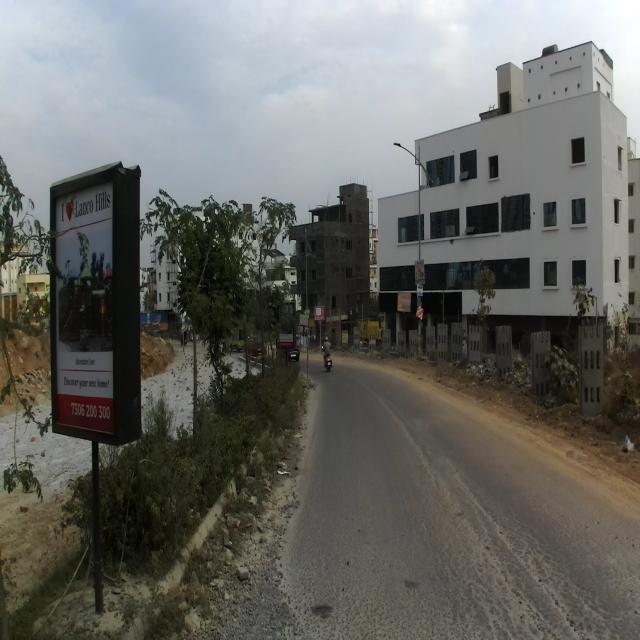barrier ahead at: (46, 163, 143, 622)
